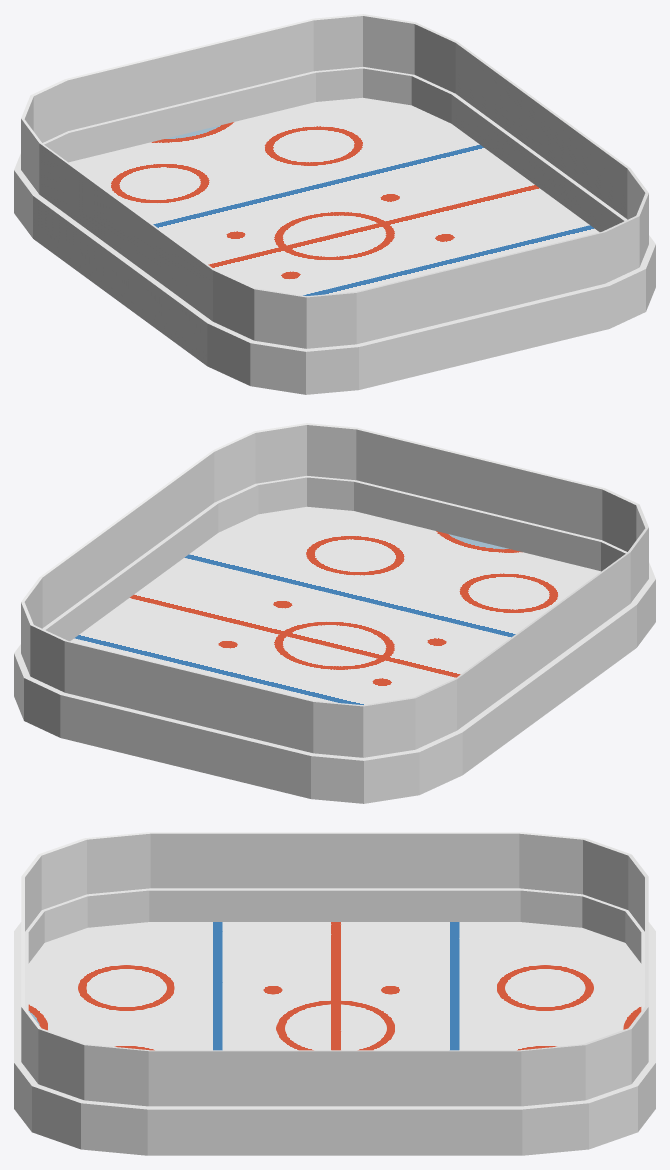
Rendered from rink.glb.
3 views of the same model, one above another, from view 1: azimuth 30°, elevation 25°; view 2: azimuth 150°, elevation 25°; view 3: azimuth 270°, elevation 25° (orthographic). The views are drawn at different scales.
Visible parts, largest first — view 1: Cube.1017; view 2: Cube.1017; view 3: Cube.1017.
Boxes of the visible parts, box(x1,y1,x2,y2) form: Cube.1017: box(14, 14, 655, 394); Cube.1017: box(14, 423, 655, 803); Cube.1017: box(14, 832, 655, 1155).
Bounding box in the file's own units: 20.05 × 4.21 × 24.15.
Materials: 3 (1 with a texture image).
